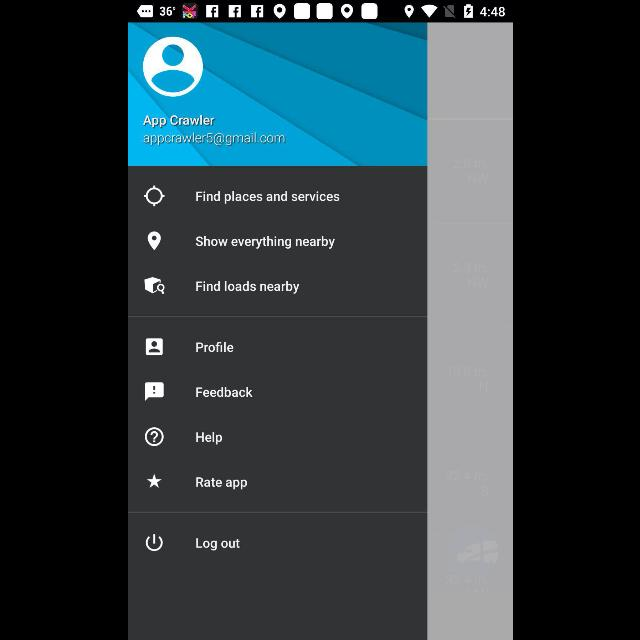icon: (142, 36, 202, 98), (143, 185, 165, 207), (144, 427, 162, 447), (144, 382, 162, 402), (144, 277, 164, 295), (145, 338, 163, 356), (146, 232, 160, 250), (146, 474, 160, 488)
image: (145, 534, 163, 552)
panel: (128, 24, 426, 640)
text: (195, 190, 339, 204), (142, 132, 284, 146), (195, 236, 335, 250), (195, 280, 299, 294), (142, 115, 214, 129), (195, 386, 253, 398), (194, 538, 240, 552), (195, 478, 247, 490), (195, 341, 233, 354), (195, 431, 222, 445)
uppertaskbar: (128, 1, 512, 23)
